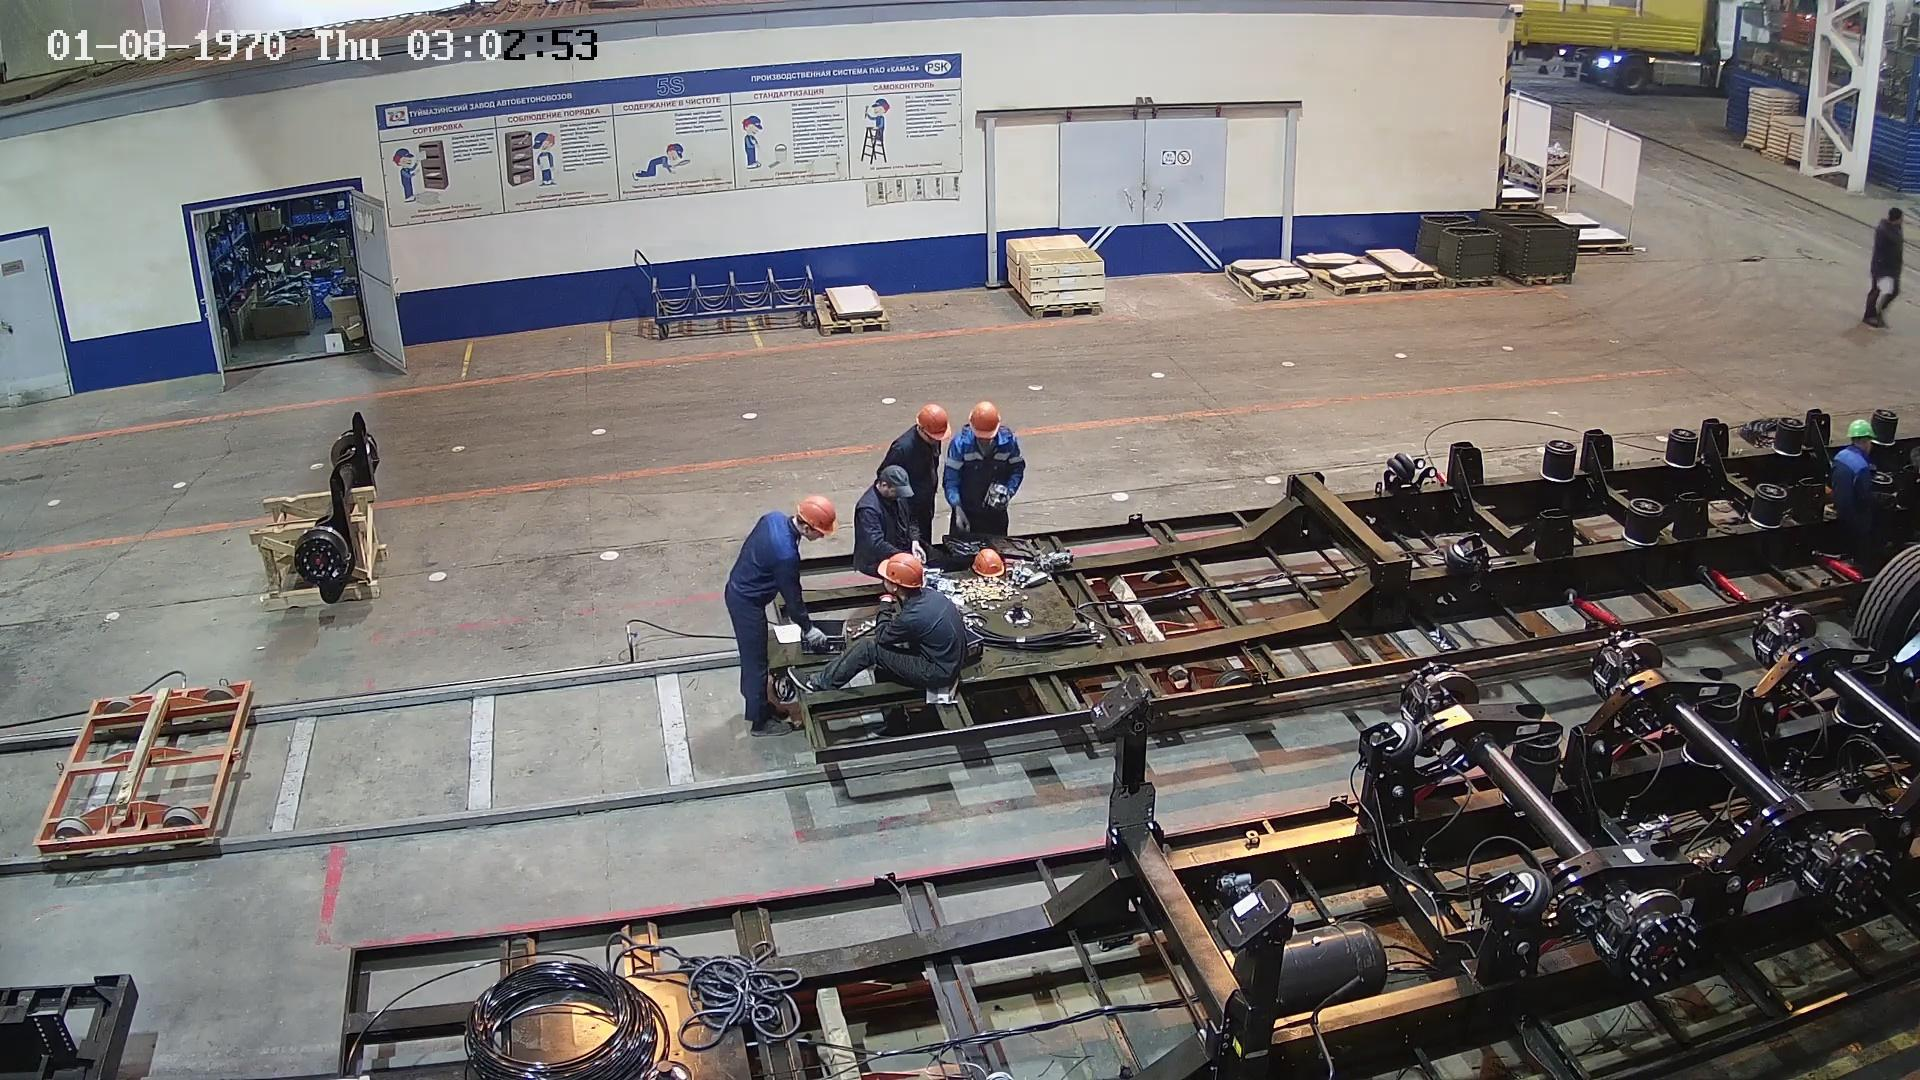helmet: (792, 494, 843, 537), (876, 554, 934, 590), (970, 402, 1001, 443), (916, 406, 945, 443), (1848, 410, 1873, 446)
person: (812, 556, 983, 723), (726, 494, 841, 735), (952, 394, 1027, 540), (1820, 406, 1892, 558), (899, 394, 948, 545), (1864, 194, 1906, 343), (844, 456, 915, 543)
